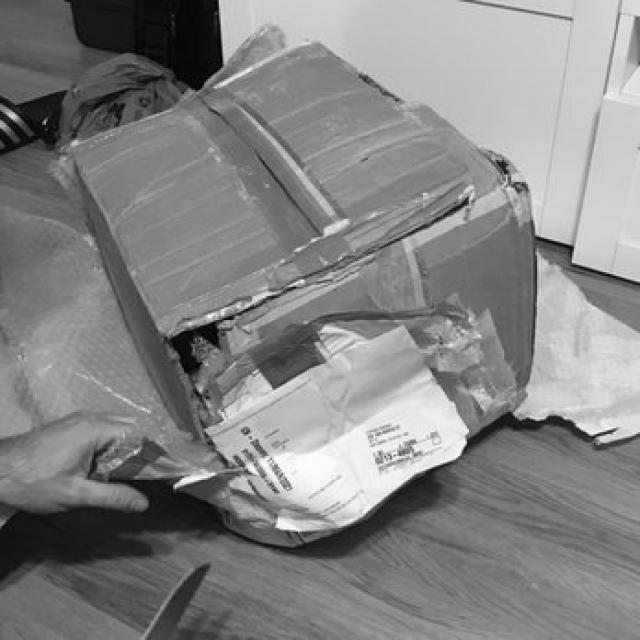hole: (159, 317, 244, 413)
